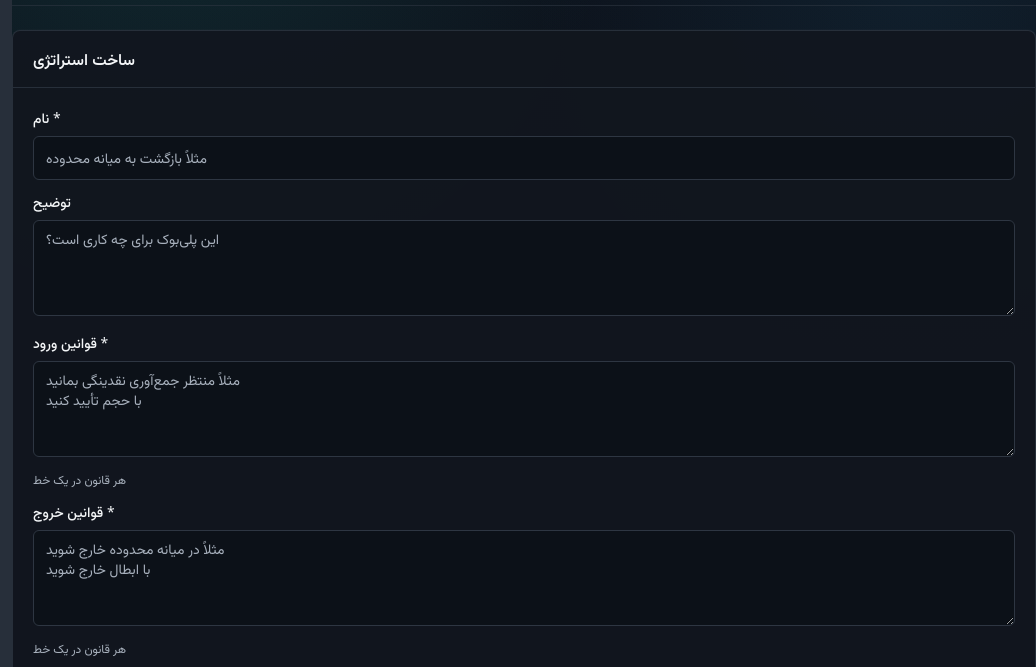
Test: the create form has three optional limit fields › names a rejected limit by this screen's own label (fa)
In the field labelled "نام *": (524, 158) [33,136,1015,180], type "Range fade"
In the text box labelled "قوانین ورود * هر قانون در یک خط": (524, 409) [33,361,1015,457], type "Wait for the sweep"
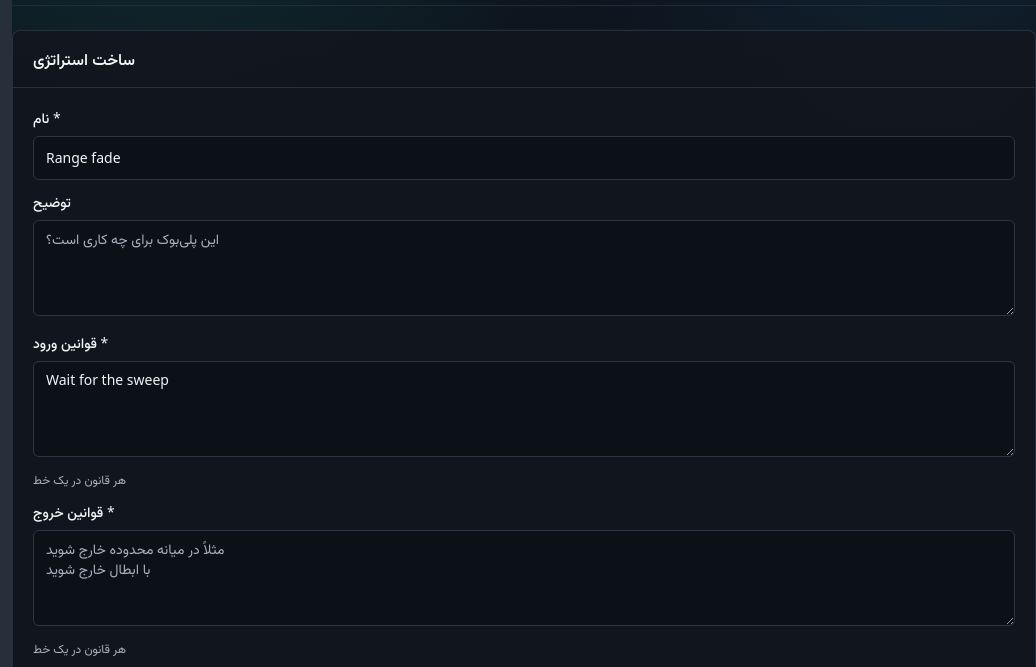
In the text box labelled "قوانین خروج * هر قانون در یک خط": (524, 578) [33,530,1015,626], type "Exit at the midpoint"
(page scrolled)
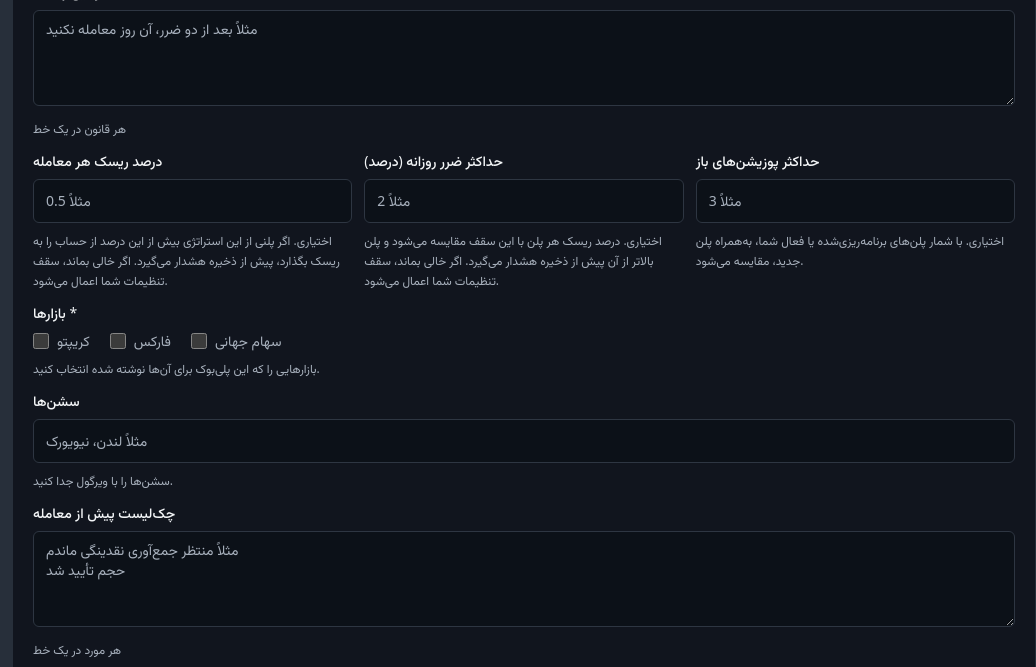
Click the checkbox labelled "فارکس": (118, 341) [110,333,126,349]
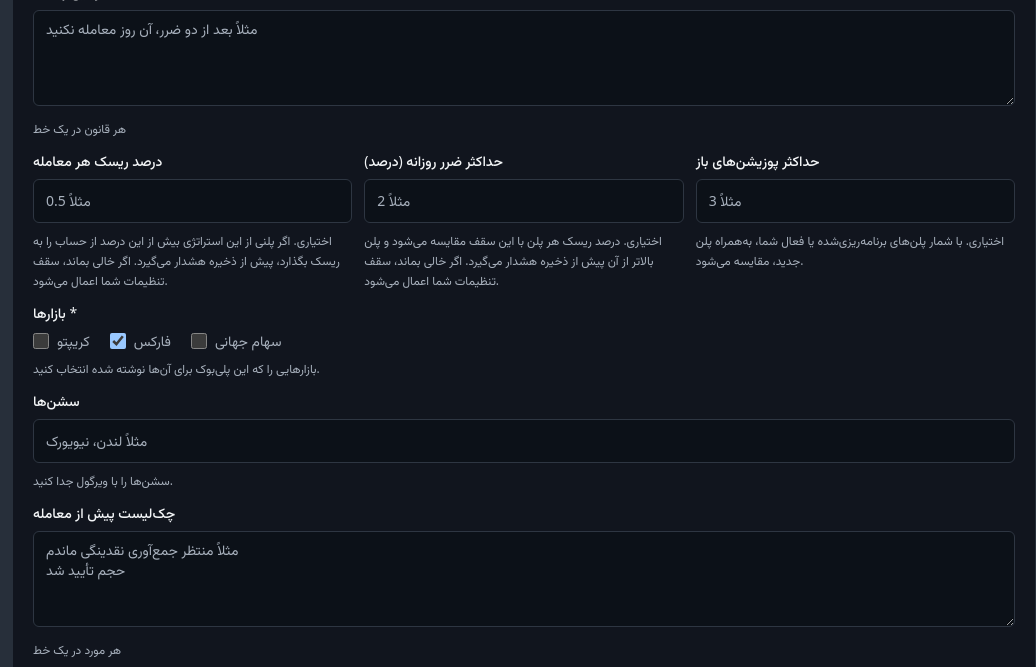
In the 1st field: (193, 201) [33,179,352,223], type "500"
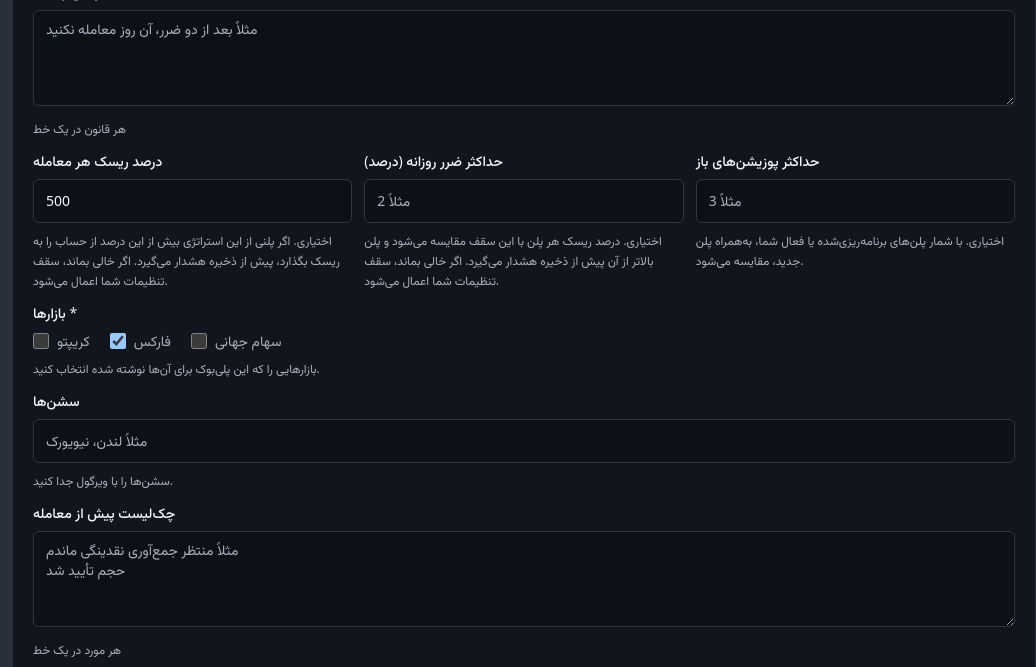
In the 3rd field: (855, 201) [696,179,1015,223], type "0"
(page scrolled)
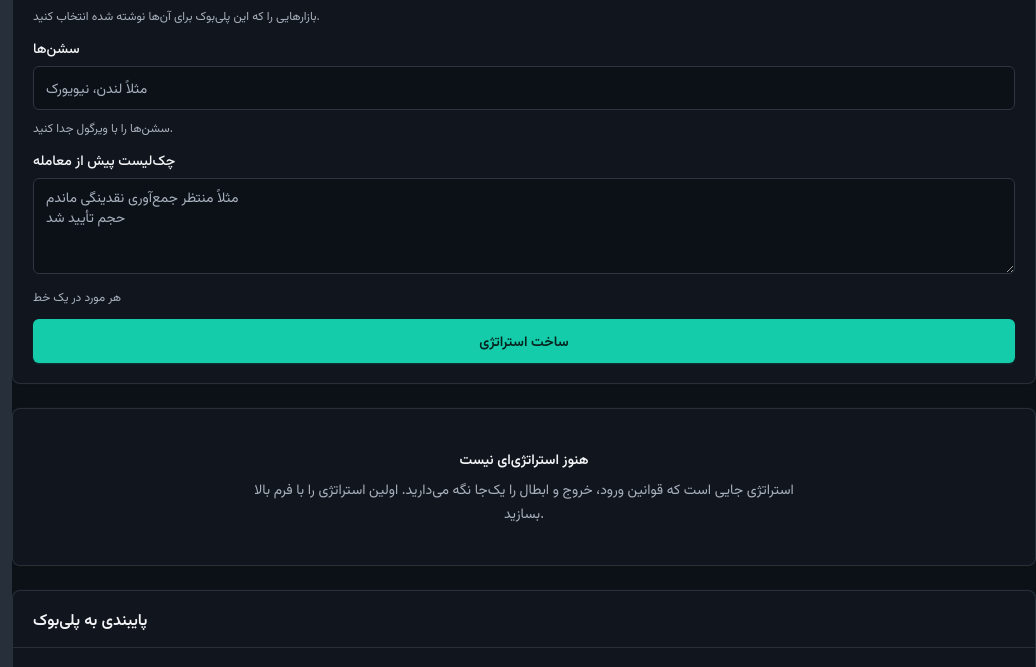
Click the button "ساخت استراتژی": (524, 341) [33,319,1015,363]
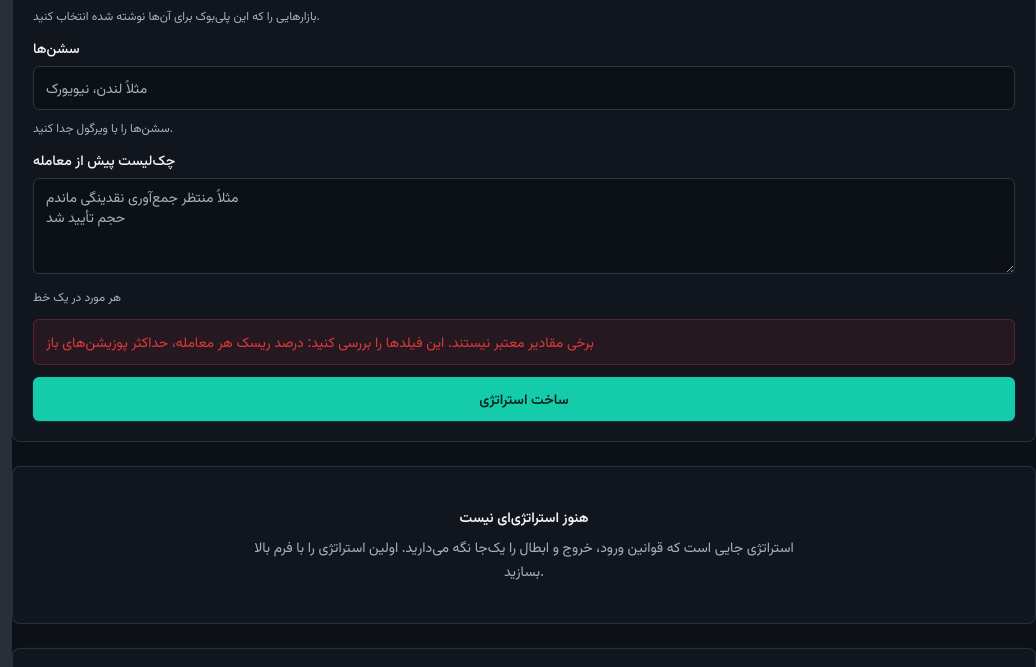
Expected: the message shows "درصد ریسک هر معامله", [46,332,594,351]
Expected: the message shows "حداکثر پوزیشن‌های باز", [46,332,594,351]
